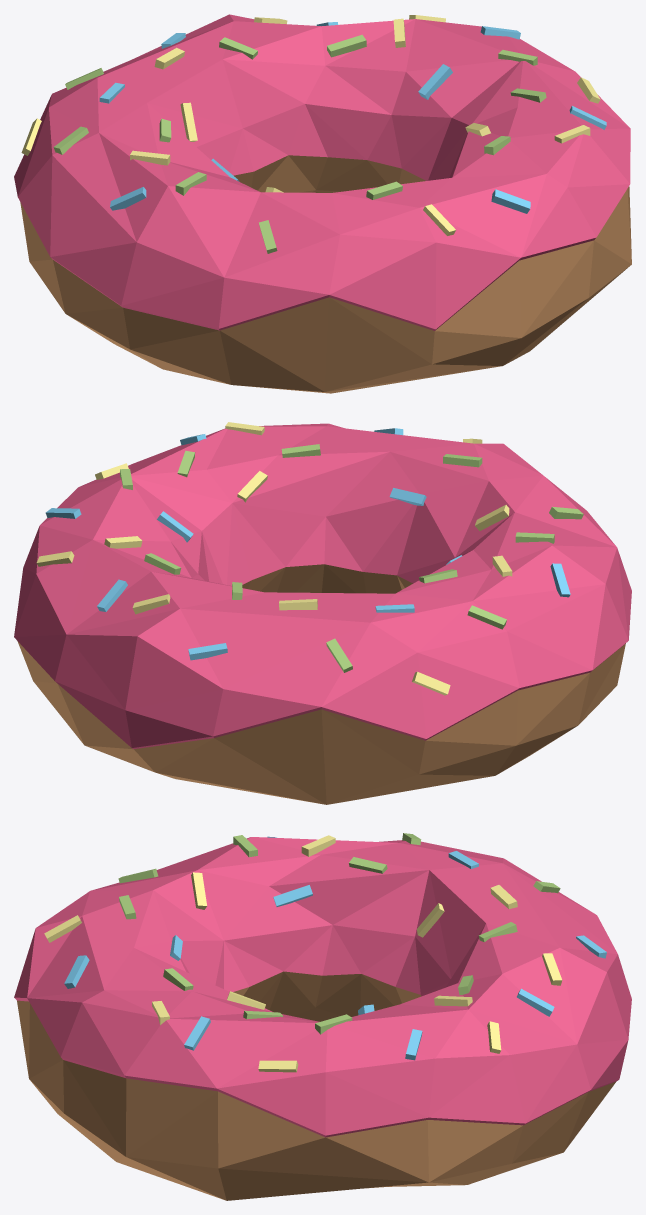
Rendered from Donat.FBX.
The picture shows the model from 3 angles, top to bottom: view 1: azimuth 30°, elevation 25°; view 2: azimuth 150°, elevation 25°; view 3: azimuth 270°, elevation 25°; orthographic projection.
Parts seen in each view (by area): view 1: Donat; view 2: Donat; view 3: Donat.
Boxes of the visible parts, x1=… form: Donat: x1=14, y1=14, x2=631, y2=393; Donat: x1=14, y1=422, x2=631, y2=804; Donat: x1=14, y1=833, x2=631, y2=1200.
Bounding box in the file's own units: 38.18 × 13.03 × 38.11.
